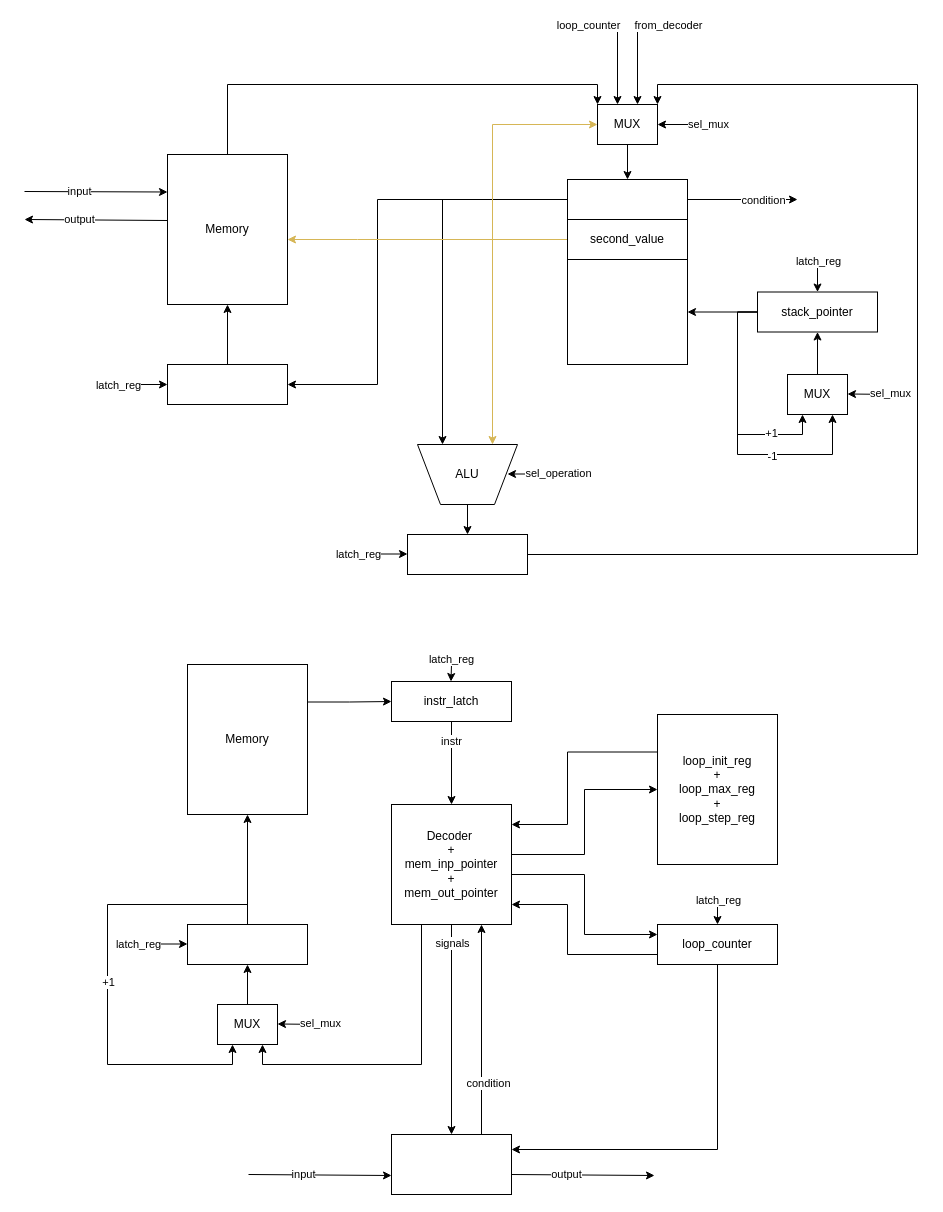
This 943x1212 diagram has some shape labels left out. The shapes that lost their labels are listed below. From the top down, each one's centre as x and y in pixels, then its label:
[627,199]: top_value
[627,311]: Stack
[227,384]: addr
[467,554]: alu_latch
[247,944]: program_counter
[451,1164]: DataPath
